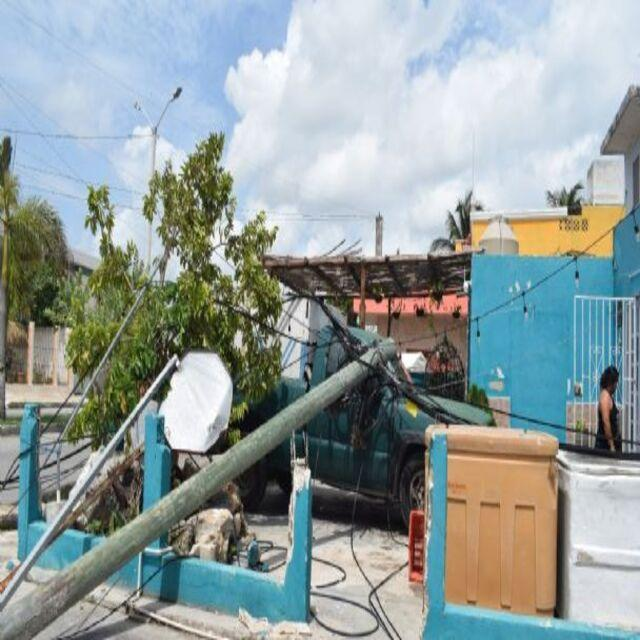Inclined Pole: (0, 323, 414, 640)
